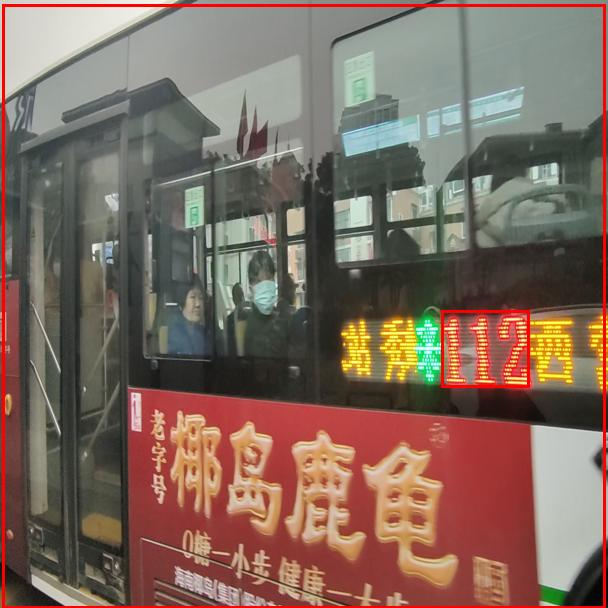bus: (2, 4, 605, 608)
screen: (441, 310, 529, 387)
